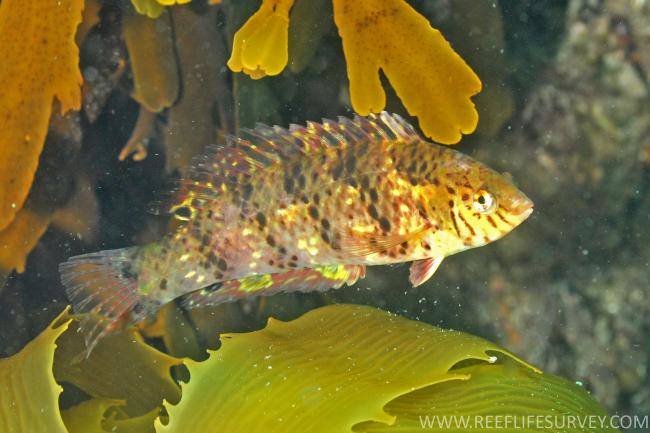fish: (59, 110, 535, 360)
